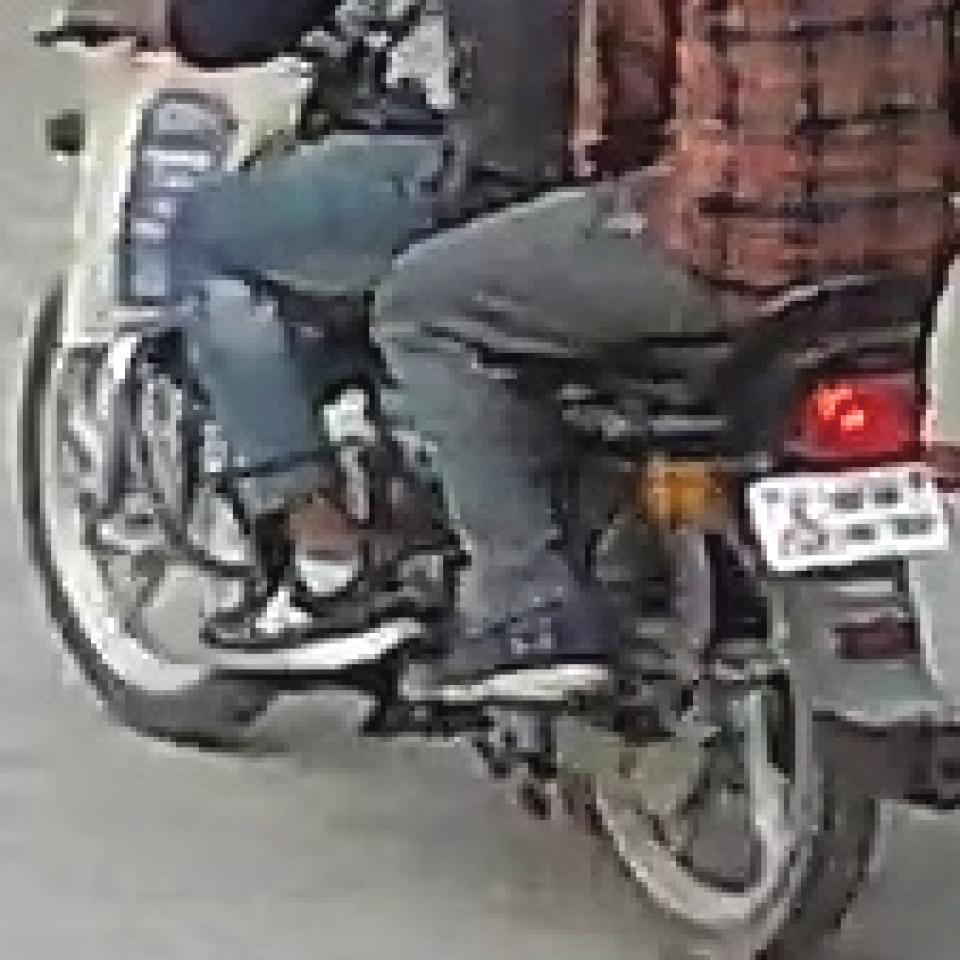tail_light: (792, 374, 922, 456)
